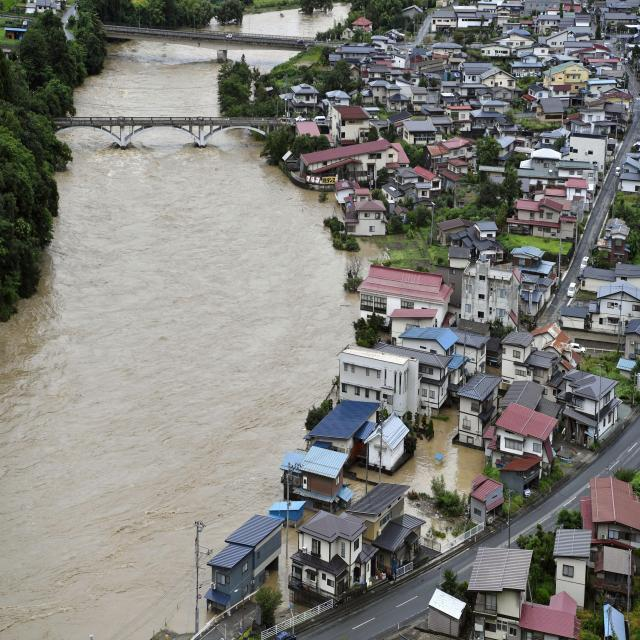flood: (0, 128, 357, 640), (75, 39, 294, 115), (243, 4, 347, 34)
house: (208, 513, 288, 614), (341, 336, 443, 412), (292, 506, 369, 597), (360, 264, 454, 327), (585, 472, 640, 574), (495, 397, 558, 481), (465, 548, 540, 617), (560, 366, 624, 446), (281, 440, 351, 507), (295, 138, 394, 182), (465, 258, 522, 320), (357, 411, 413, 474), (372, 514, 422, 582), (455, 372, 496, 454), (550, 526, 593, 602), (337, 183, 387, 239), (518, 592, 578, 637), (425, 586, 470, 640), (524, 246, 558, 311), (468, 475, 507, 528), (511, 199, 568, 235), (596, 282, 640, 328), (497, 328, 534, 374), (568, 130, 612, 168), (396, 164, 442, 196), (540, 321, 576, 356), (601, 219, 631, 261), (543, 59, 589, 85), (529, 148, 559, 184), (335, 104, 366, 138), (560, 158, 600, 182), (444, 140, 472, 174), (401, 119, 436, 144), (579, 270, 614, 294), (478, 66, 516, 88), (291, 84, 317, 108), (472, 218, 498, 242), (604, 97, 632, 119), (430, 8, 458, 30), (604, 8, 640, 24), (449, 102, 474, 124), (618, 171, 640, 195), (498, 35, 535, 49), (434, 40, 461, 59), (548, 29, 570, 52), (461, 62, 481, 86), (24, 0, 57, 14), (370, 78, 389, 102), (410, 86, 430, 108), (343, 46, 374, 60), (526, 86, 551, 103), (538, 12, 560, 28), (484, 44, 509, 58), (584, 108, 606, 122), (354, 16, 373, 31)
